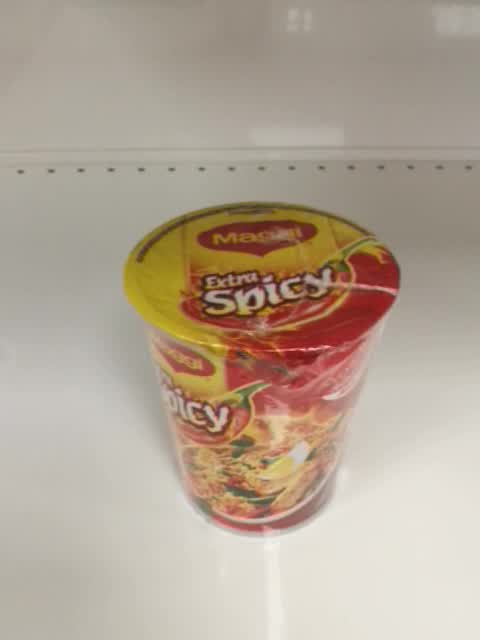maggi: (122, 200, 402, 538)
